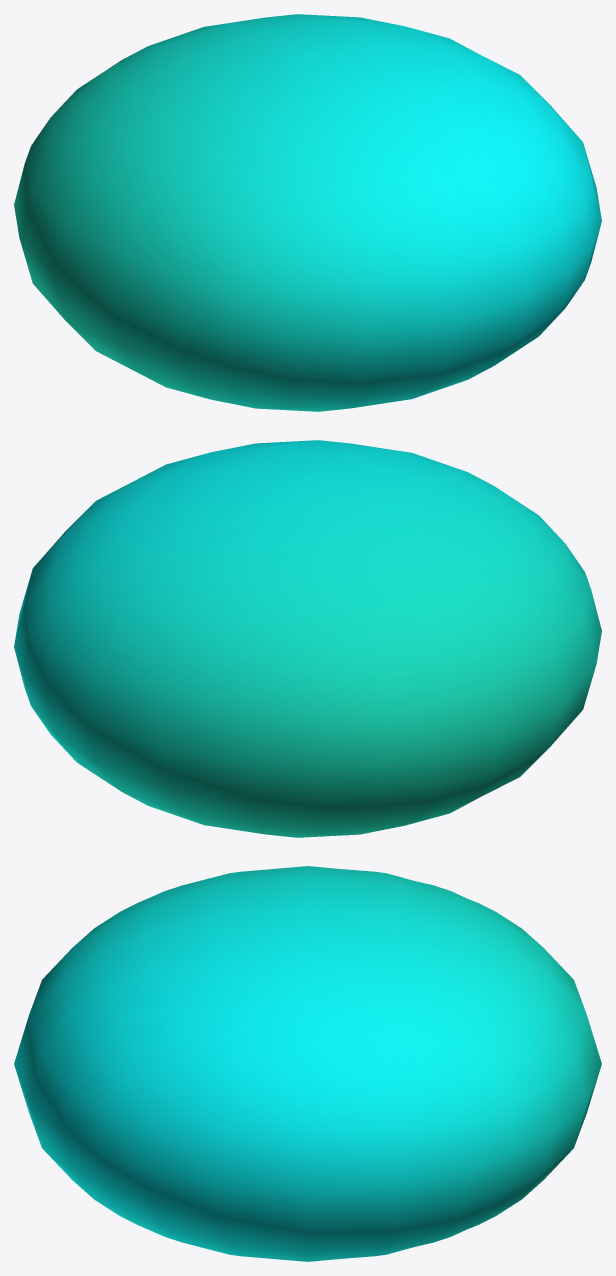
The model's file is Opal.fbx.
3 views of the same model, one above another, from view 1: azimuth 30°, elevation 25°; view 2: azimuth 150°, elevation 25°; view 3: azimuth 270°, elevation 25° (orthographic).
Visible parts, largest first — view 1: OPAL.001; view 2: OPAL.001; view 3: OPAL.001.
Boxes of the visible parts, x1,y1,x2,y2 form: OPAL.001: (14, 14, 601, 411); OPAL.001: (14, 440, 601, 837); OPAL.001: (14, 866, 601, 1261).
Bounding box in the file's own units: 148 × 86.34 × 148.
Materials: 1 (1 with a texture image).
